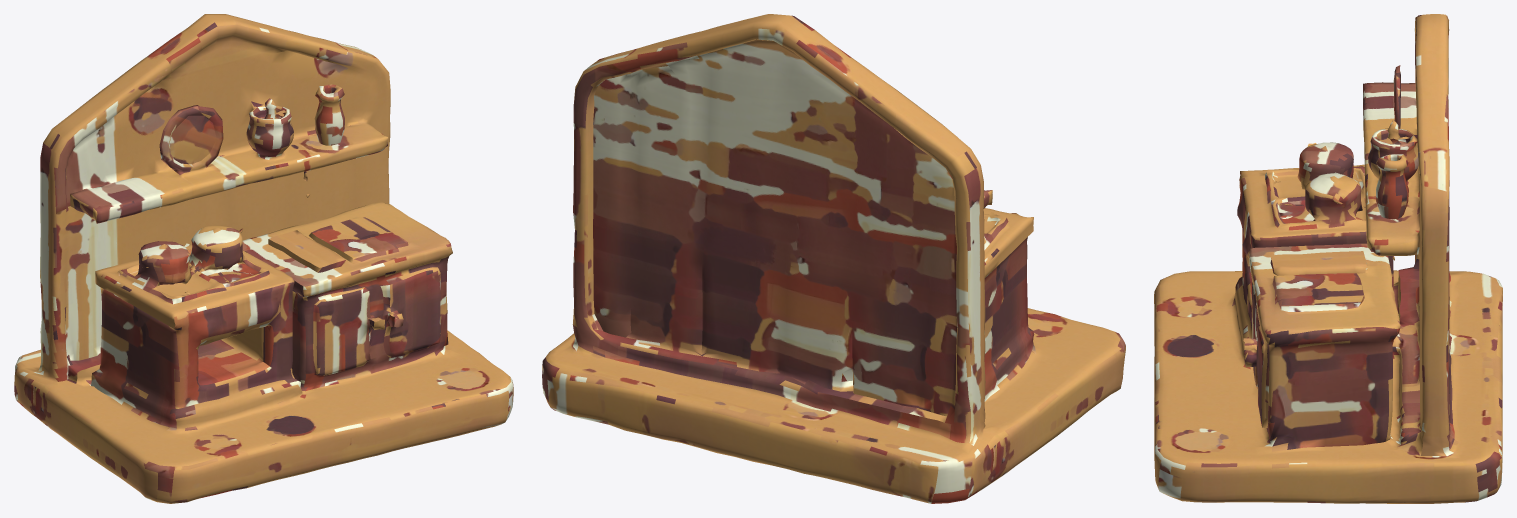
The model's file is B06_KitchenStation.fbx.
The picture shows the model from 3 angles, left to right: view 1: azimuth 30°, elevation 25°; view 2: azimuth 150°, elevation 25°; view 3: azimuth 270°, elevation 25°; orthographic projection. The views are drawn at different scales.
Parts seen in each view (by area): view 1: tripo_node_f7619e85; view 2: tripo_node_f7619e85; view 3: tripo_node_f7619e85.
Part boxes in pixels (x1,y1,x2,y2): tripo_node_f7619e85: [14, 14, 513, 503]; tripo_node_f7619e85: [542, 14, 1125, 503]; tripo_node_f7619e85: [1154, 14, 1502, 503].
Bounding box in the file's own units: 0.978 × 0.9107 × 0.7357.
